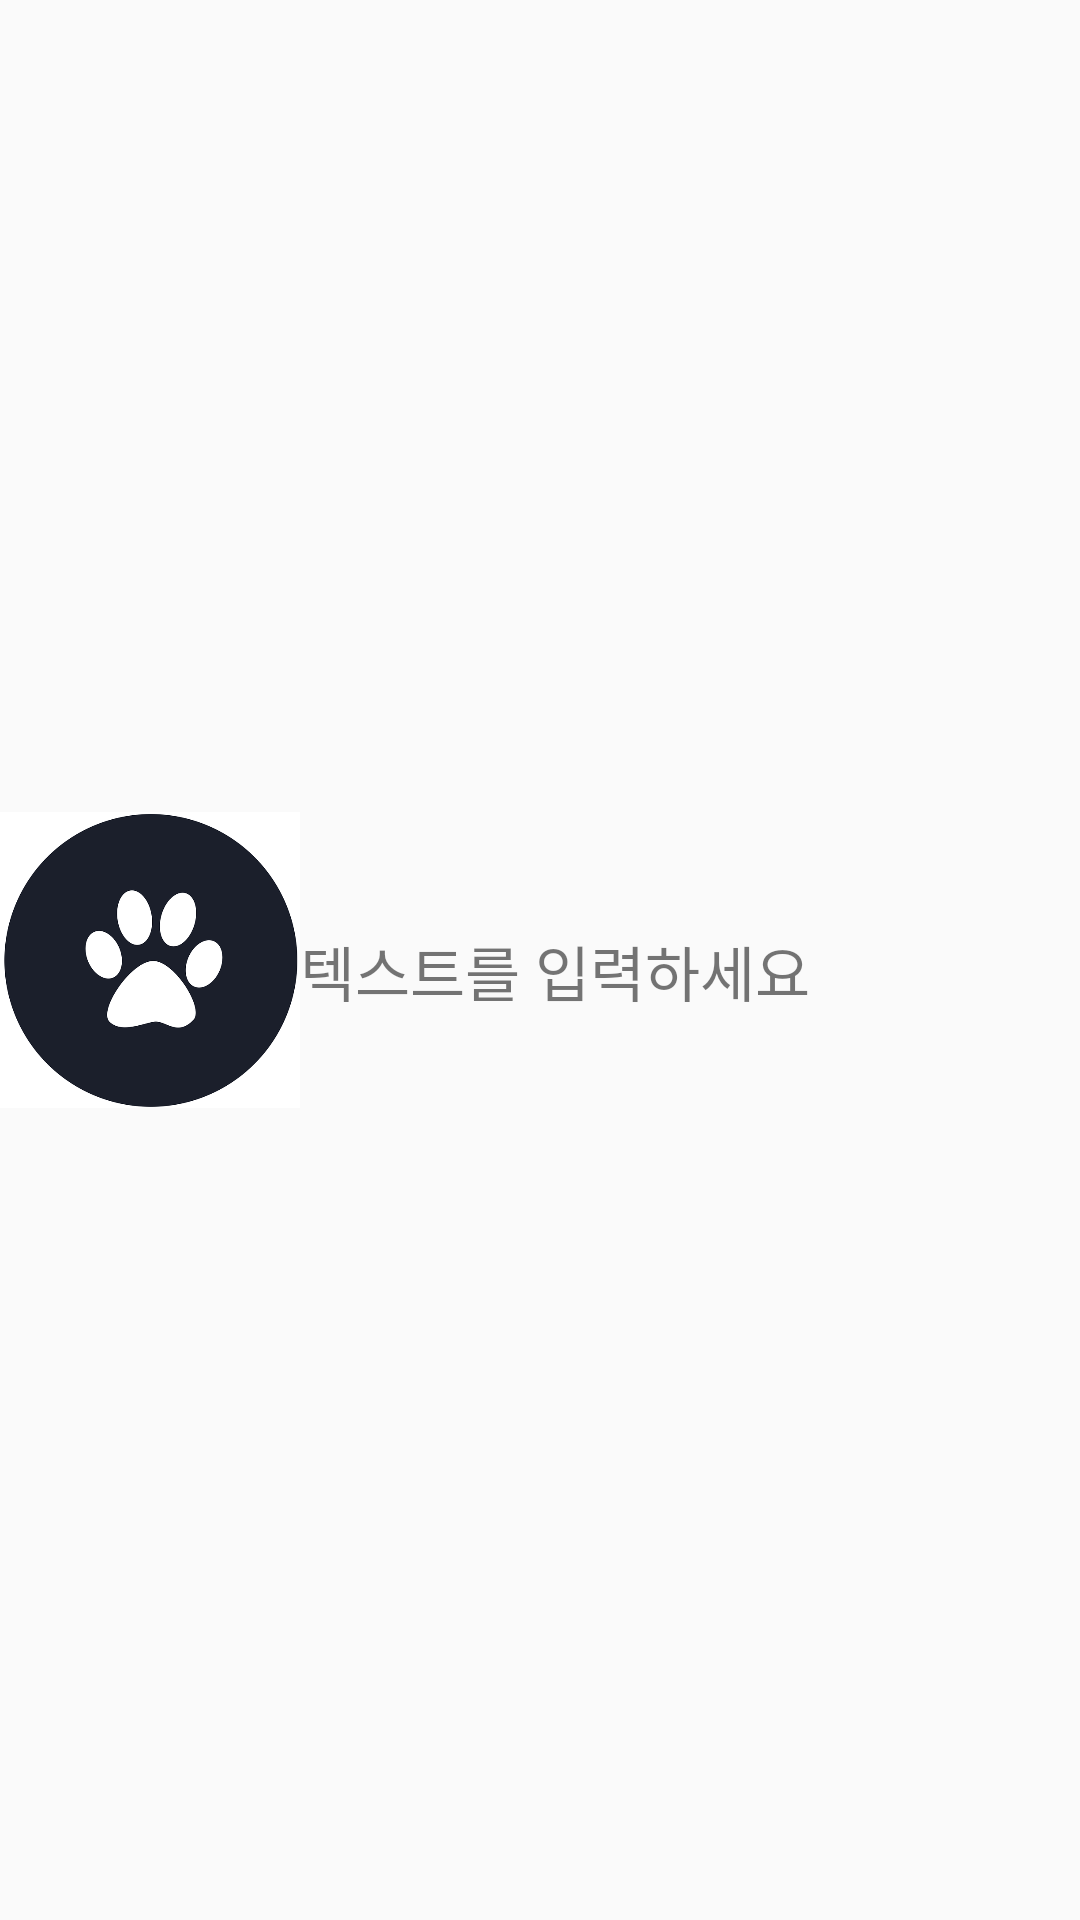

Screen size 1080w x 1920h. Icon name, then its center in pixels as [x,y]:
paw: [151,960]
